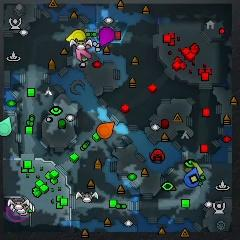p1: (184, 166, 200, 187)
p2: (0, 117, 13, 136)
p3: (99, 27, 114, 46)
p4: (66, 29, 86, 43)
p5: (97, 121, 115, 139)
x1: (75, 44, 91, 61)
x2: (185, 162, 203, 174)
